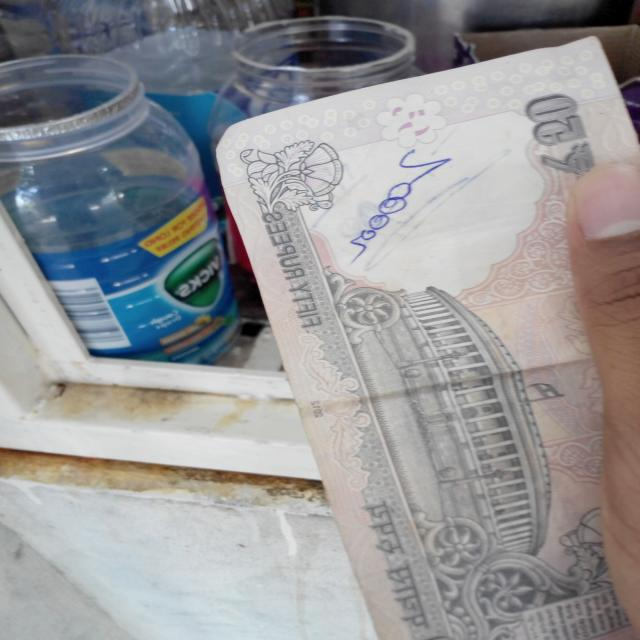50rs: (233, 33, 640, 640)
